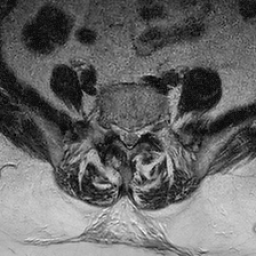CCS_normal: (125, 121, 132, 155)
LFS_normal: (140, 116, 149, 141)
LLS_normal: (132, 120, 140, 149)
RFS_normal: (110, 113, 118, 139)
RLS_normal: (118, 118, 125, 148)
